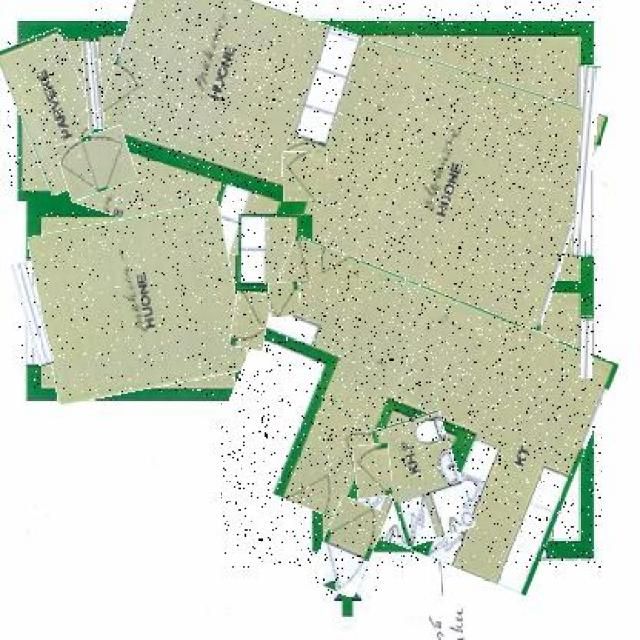door: (315, 498, 380, 596), (58, 130, 134, 196), (283, 150, 328, 202), (232, 292, 270, 351), (354, 443, 392, 499), (270, 283, 298, 317)
window: (575, 65, 597, 257), (19, 260, 46, 366), (85, 41, 103, 130), (582, 316, 592, 378)
zone: (84, 2, 596, 316), (220, 263, 602, 568), (34, 210, 243, 396), (8, 32, 103, 192), (380, 412, 468, 543), (238, 214, 312, 281)
